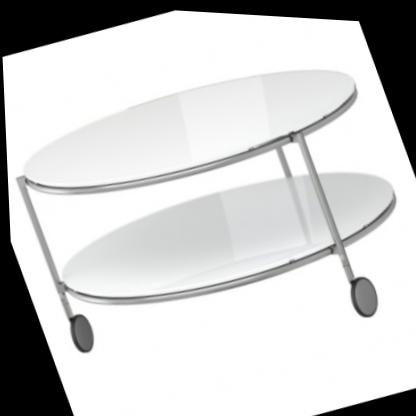Table: (1, 20, 416, 414)
